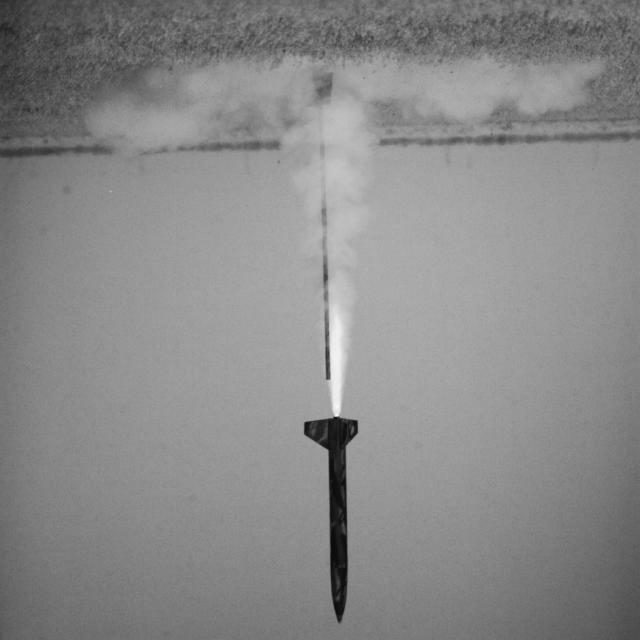missile: (301, 415, 361, 621)
